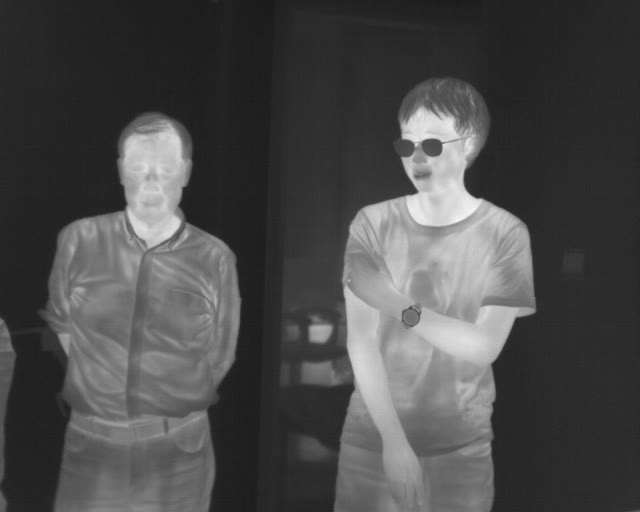face: (395, 75, 490, 196), (114, 109, 193, 225)
